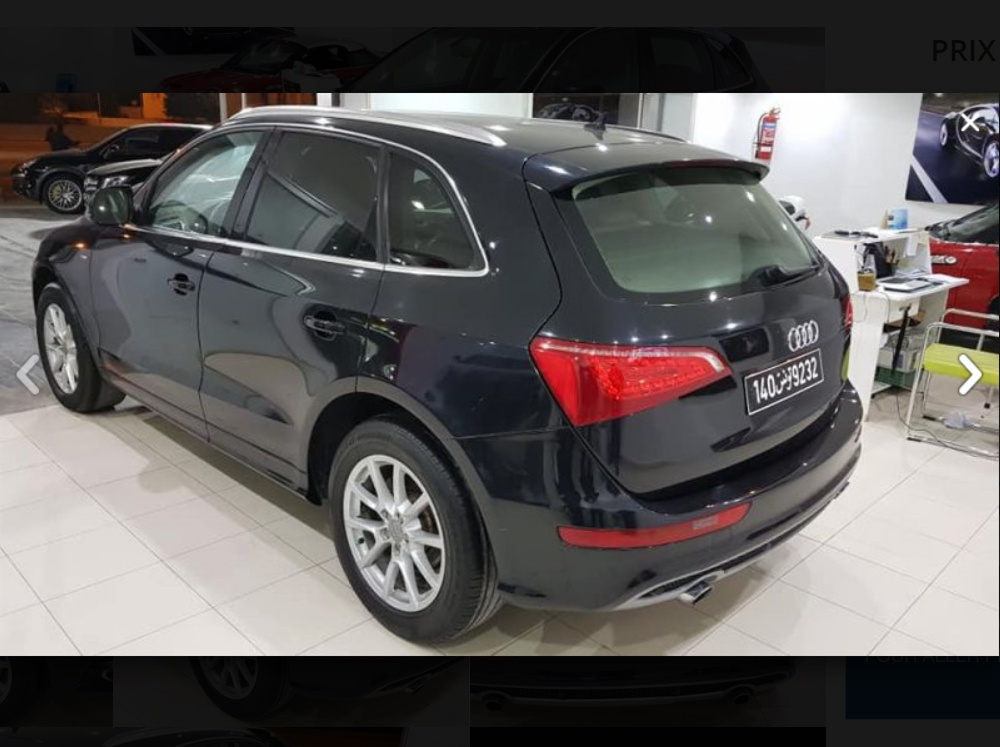LP: (740, 349, 828, 414)
